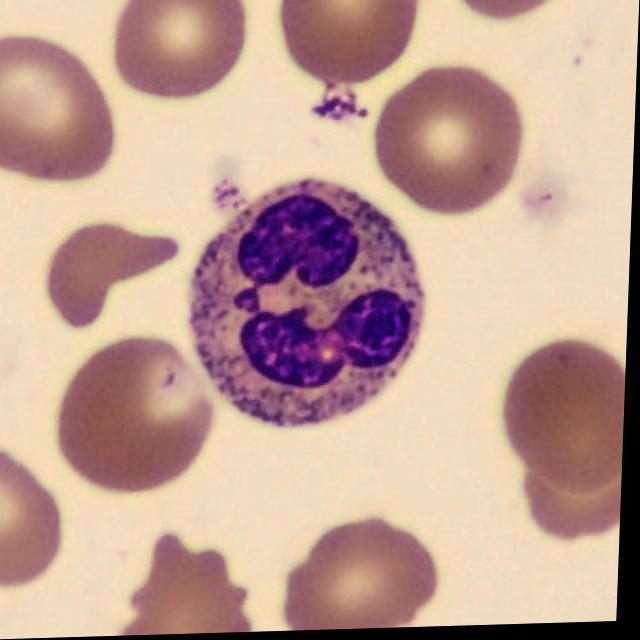Neutrofilo segmentado: (191, 182, 428, 430)
